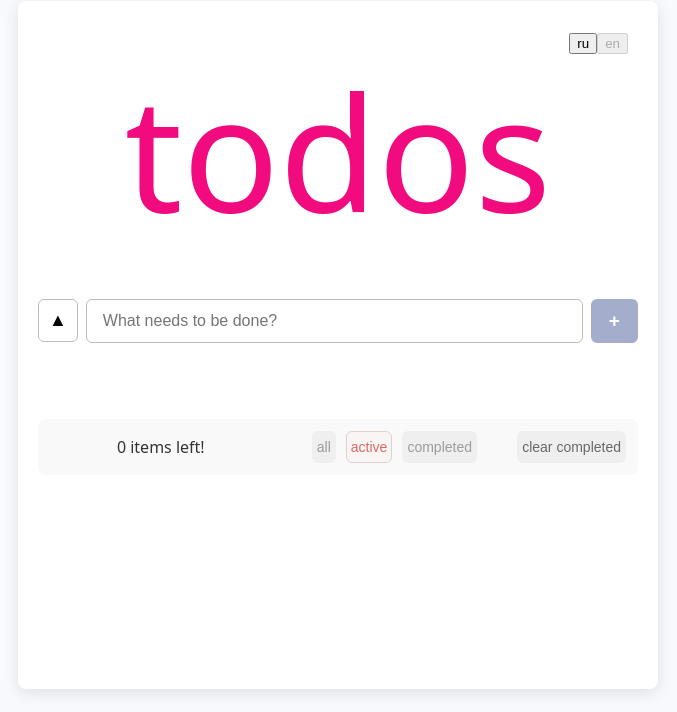
Test: User can add a new todo
In the field with placeholder "What needs to be done?": [334, 321] box [86,299,583,343], type "Complete test todo"
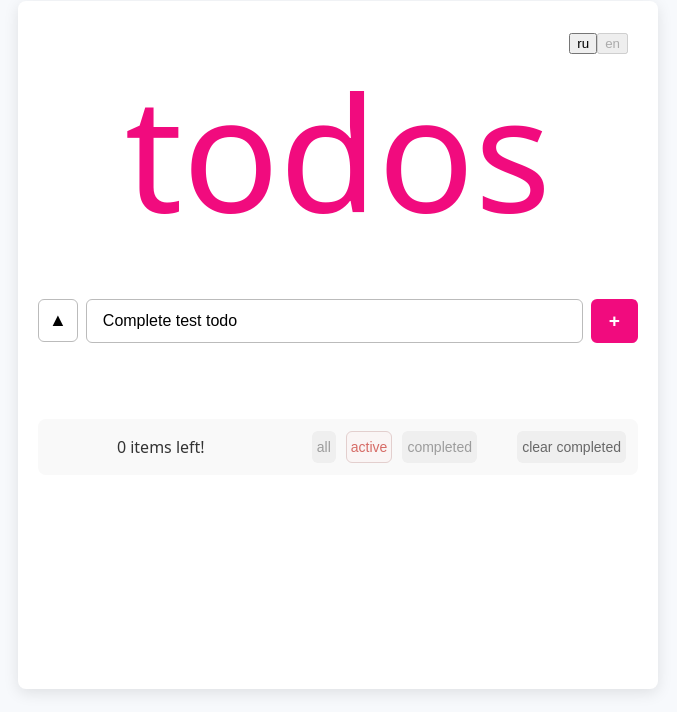
Press Enter in the field with placeholder "What needs to be done?", box [86,299,583,343]
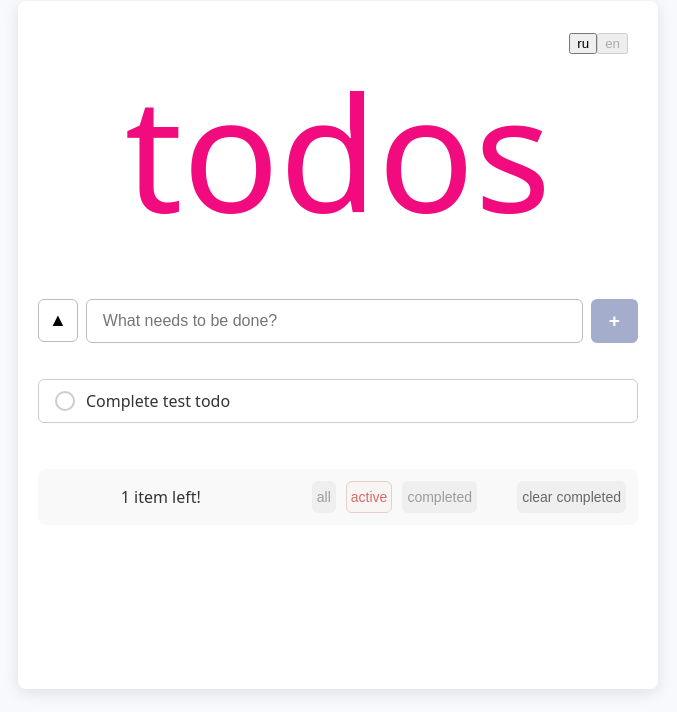
expect the text "Complete test todo" is shown: met, box [86,390,230,412]
